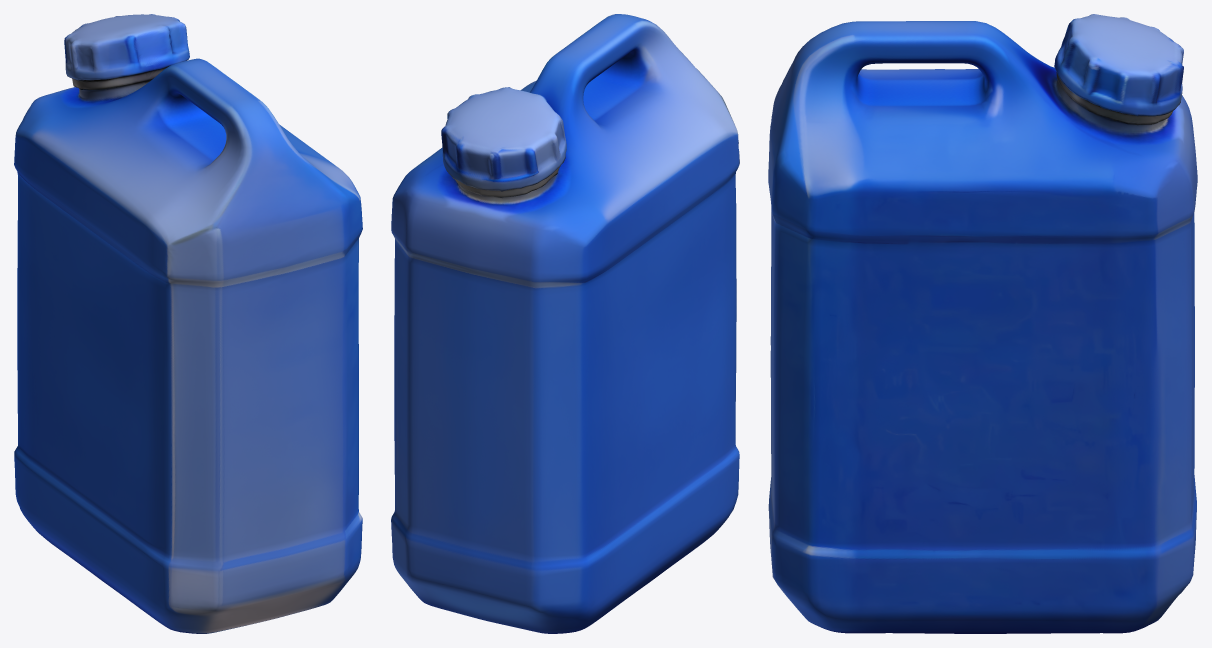
The model's file is jerigen-rodin.glb.
3 renders of one model, left to right at view 1: azimuth 30°, elevation 25°; view 2: azimuth 150°, elevation 25°; view 3: azimuth 270°, elevation 25°, orthographic. The views are drawn at different scales.
Parts seen in each view (by area): view 1: model; view 2: model; view 3: model.
Part boxes in pixels (box(x1,y1,x2,y2)): model: box(14, 14, 362, 633); model: box(391, 14, 739, 633); model: box(768, 14, 1197, 633).
Size of the model in its own units: 0.7709 by 1.84 by 1.27.
1 material, 1 textured.
